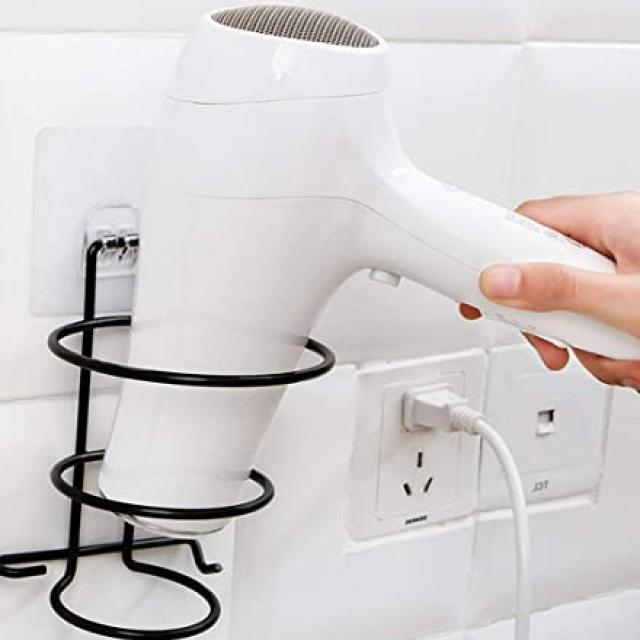dryer: (81, 1, 634, 568)
